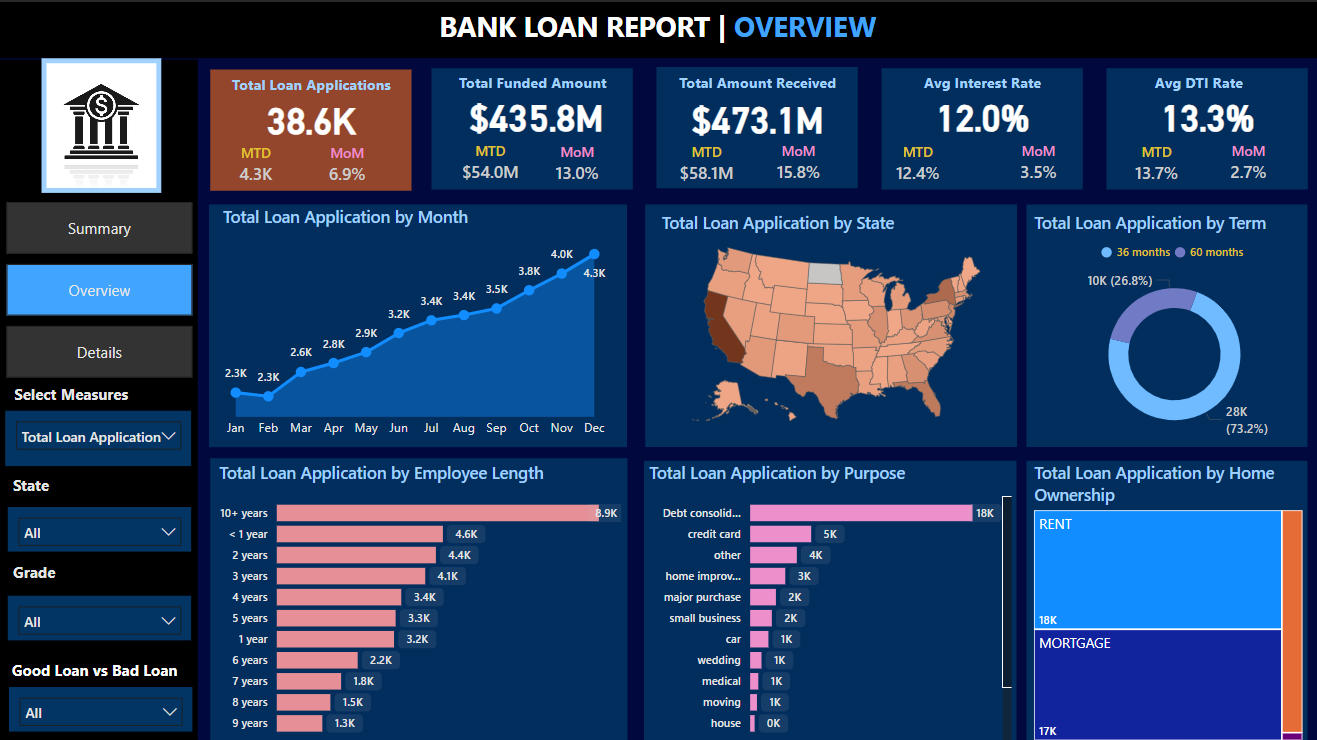

This screenshot's page, from the dashboard's own definition file:
{"tool":"powerbi","page":{"name":"Overview","canvas":[1280,720],"ordinal":1},"visuals":[{"type":"shape","box":[203.4,196.1,405,235],"z":0},{"type":"shape","box":[0,0,1279.5,54.5],"z":1000},{"type":"shape","box":[0,55.4,192.5,664.6],"z":2000},{"type":"textbox","box":[421.3,0,479.4,49.6],"z":3000},{"type":"shape","box":[418.8,64.1,194.9,117.4],"z":3000,"group":"g2"},{"type":"shape","box":[204.6,65.4,194.9,117.4],"z":3000,"group":"g1"},{"type":"shape","box":[854.6,64.1,194.9,117.4],"z":4000,"group":"g3"},{"type":"group","id":"g1","title":"Group 1","box":[204.6,65.4,194.9,117.4],"z":4000},{"type":"card","fields":{"Values":["Key Measures.Total Loan Application"]},"box":[245.8,88.4,113.8,48.4],"z":4000,"group":"g1"},{"type":"group","id":"g2","title":"Group 2","box":[418.8,62.9,194.9,118.6],"z":5000},{"type":"shape","box":[1072.5,64.1,194.9,117.4],"z":5000,"group":"g4"},{"type":"textbox","box":[211.9,65.4,181.6,32.7],"z":5000,"group":"g1"},{"type":"group","id":"g3","title":"Group 4","box":[635.5,62.9,414,118.6],"z":6000},{"type":"shape","box":[636.7,62.9,194.9,117.4],"z":6000,"group":"g5"},{"type":"card","title":"MTD","fields":{"Values":["Key Measures.MTD Loan Applications"]},"box":[214.3,136.8,69,46],"z":6000,"group":"g1"},{"type":"group","id":"g4","title":"Group 5","box":[1071.3,62.9,196.1,118.6],"z":7000},{"type":"card","fields":{"Values":["Key Measures.Total Funded Amount"]},"box":[446.6,85.9,147.7,48.4],"z":7000,"group":"g2"},{"type":"card","title":"MoM","fields":{"Values":["Key Measures.MoM Loan Applications"]},"box":[302.7,136.8,69,46],"z":7000,"group":"g1"},{"type":"textbox","box":[426.1,62.9,181.6,32.7],"z":8000,"group":"g2"},{"type":"textbox","box":[8.5,452.7,72.6,32.7],"z":8000},{"type":"card","title":"MTD","fields":{"Values":["Key Measures.MTD Funded Amount"]},"box":[426.1,134.3,99.3,46],"z":9000,"group":"g2"},{"type":"slicer","fields":{"Values":["financial_loan.address_state"]},"box":[8.5,489,177.9,43.6],"z":9000},{"type":"card","title":"MoM","fields":{"Values":["Key Measures.MoM Funded Amount"]},"box":[525.3,135.5,69,46],"z":10000,"group":"g2"},{"type":"slicer","fields":{"Values":["financial_loan.grade"]},"box":[8.5,575,177.9,43.6],"z":10000},{"type":"card","fields":{"Values":["Key Measures.Total Amount Received"]},"box":[660.9,87.1,147.7,48.4],"z":11000,"group":"g5"},{"type":"slicer","fields":{"Values":["financial_loan.Good vs Bad Loan"]},"box":[9.7,663.6,177.9,43.6],"z":11000},{"type":"textbox","box":[644,62.9,181.6,32.7],"z":12000,"group":"g5"},{"type":"textbox","box":[8.5,537.5,72.6,32.7],"z":12000},{"type":"card","title":"MTD","fields":{"Values":["Key Measures.MTD Amount Received"]},"box":[635.5,135.5,99.3,46],"z":13000,"group":"g5"},{"type":"textbox","box":[7.3,632.1,184,31.5],"z":13000},{"type":"card","title":"MoM","fields":{"Values":["Key Measures.MoM Amount Received"]},"box":[739.6,134.3,69,46],"z":14000,"group":"g5"},{"type":"slicer","fields":{"Values":["Select Measures.Select Measures"]},"box":[6.1,395.8,180.4,53.3],"z":14000},{"type":"card","fields":{"Values":["Key Measures.Avg Int Rate"]},"box":[878.8,85.9,147.7,48.4],"z":15000,"group":"g3"},{"type":"areaChart","fields":{"Y":["Key Measures.Total Loan Application"],"Category":["Date Table.Month"]},"box":[211.8,196.1,382.5,234.8],"z":15000},{"type":"card","title":"MoM","fields":{"Values":["Key Measures.MoM Avg Int Rate"]},"box":[972,134.3,69,46],"z":16000,"group":"g3"},{"type":"textbox","box":[9.7,364.4,136.8,32.7],"z":16000},{"type":"card","title":"MTD","fields":{"Values":["Key Measures.MTD Avg Int"]},"box":[840.1,135.5,99.3,46],"z":17000,"group":"g3"},{"type":"shape","box":[995,196.1,272.4,234.8],"z":17000},{"type":"textbox","box":[861.9,62.9,181.6,32.7],"z":18000,"group":"g3"},{"type":"donutChart","fields":{"Y":["Key Measures.Total Loan Application"],"Category":["financial_loan.term"]},"box":[997.4,202.2,282,228.8],"z":18000},{"type":"card","fields":{"Values":["Key Measures.Avg DTI"]},"box":[1096.7,85.9,147.7,48.4],"z":19000,"group":"g4"},{"type":"shape","box":[204.6,441.8,404.3,278.4],"z":19000},{"type":"card","title":"MoM","fields":{"Values":["Key Measures.MoM Avg DTI"]},"box":[1175.4,134.3,69,46],"z":20000,"group":"g4"},{"type":"barChart","fields":{"Y":["Key Measures.Total Loan Application"],"Category":["financial_loan.emp_length"]},"box":[208.2,444.3,399.5,276],"z":20000},{"type":"card","title":"MTD","fields":{"Values":["Key Measures.MTD Avg DTI"]},"box":[1071.3,135.5,99.3,46],"z":21000,"group":"g4"},{"type":"shape","box":[624.6,444.3,360.7,276],"z":21000},{"type":"textbox","box":[1071.3,62.9,181.6,32.7],"z":22000,"group":"g4"},{"type":"barChart","fields":{"Y":["Key Measures.Total Loan Application"],"Category":["financial_loan.purpose"]},"box":[624.6,444.3,360.7,276],"z":22000},{"type":"shape","box":[625.8,196.1,360,234.8],"z":23000},{"type":"shape","box":[995,444.3,272.4,276],"z":24000},{"type":"group","id":"g5","title":"Group 3","box":[635.5,62.9,196.1,118.6],"z":24002,"group":"g3"},{"type":"treemap","fields":{"Values":["Key Measures.Total Loan Application"],"Group":["financial_loan.home_ownership"]},"box":[997.4,444.3,269.9,276],"z":25000},{"type":"shapeMap","fields":{"Value":["Key Measures.Total Loan Application"],"Category":["financial_loan.address_state"]},"box":[636.7,202.2,348.6,217.9],"z":26000},{"type":"image","box":[41.2,54.5,116.2,130.7],"z":27000},{"type":"pageNavigator","box":[7.3,193.7,180.4,171.9],"z":28000}]}

Visuals, with their boxes in screenshot pixels (x1, y1, x2, y2), scaled from the page's 1280x720 canvas onto the 1317x740 screenshot:
shape: {"left": 209, "top": 202, "right": 626, "bottom": 443}
shape: {"left": 0, "top": 0, "right": 1316, "bottom": 56}
shape: {"left": 0, "top": 57, "right": 198, "bottom": 739}
textbox: {"left": 433, "top": 0, "right": 927, "bottom": 51}
shape: {"left": 431, "top": 66, "right": 631, "bottom": 187}
shape: {"left": 211, "top": 67, "right": 411, "bottom": 188}
shape: {"left": 879, "top": 66, "right": 1080, "bottom": 187}
"Group 1" group: {"left": 211, "top": 67, "right": 411, "bottom": 188}
card - Key Measures.Total Loan Application: {"left": 253, "top": 91, "right": 370, "bottom": 141}
"Group 2" group: {"left": 431, "top": 65, "right": 631, "bottom": 187}
shape: {"left": 1104, "top": 66, "right": 1304, "bottom": 187}
textbox: {"left": 218, "top": 67, "right": 405, "bottom": 101}
"Group 4" group: {"left": 654, "top": 65, "right": 1080, "bottom": 187}
shape: {"left": 655, "top": 65, "right": 856, "bottom": 185}
"MTD" card: {"left": 220, "top": 141, "right": 291, "bottom": 188}
"Group 5" group: {"left": 1102, "top": 65, "right": 1304, "bottom": 187}
card - Key Measures.Total Funded Amount: {"left": 460, "top": 88, "right": 611, "bottom": 138}
"MoM" card: {"left": 311, "top": 141, "right": 382, "bottom": 188}
textbox: {"left": 438, "top": 65, "right": 625, "bottom": 98}
textbox: {"left": 9, "top": 465, "right": 83, "bottom": 499}
"MTD" card: {"left": 438, "top": 138, "right": 541, "bottom": 185}
slicer - financial_loan.address_state: {"left": 9, "top": 503, "right": 192, "bottom": 547}
"MoM" card: {"left": 540, "top": 139, "right": 611, "bottom": 187}
slicer - financial_loan.grade: {"left": 9, "top": 591, "right": 192, "bottom": 636}
card - Key Measures.Total Amount Received: {"left": 680, "top": 90, "right": 832, "bottom": 139}
slicer - financial_loan.Good vs Bad Loan: {"left": 10, "top": 682, "right": 193, "bottom": 727}
textbox: {"left": 663, "top": 65, "right": 849, "bottom": 98}
textbox: {"left": 9, "top": 552, "right": 83, "bottom": 586}
"MTD" card: {"left": 654, "top": 139, "right": 756, "bottom": 187}
textbox: {"left": 8, "top": 650, "right": 197, "bottom": 682}
"MoM" card: {"left": 761, "top": 138, "right": 832, "bottom": 185}
slicer - Select Measures.Select Measures: {"left": 6, "top": 407, "right": 192, "bottom": 462}
card - Key Measures.Avg Int Rate: {"left": 904, "top": 88, "right": 1056, "bottom": 138}
areaChart - Key Measures.Total Loan Application x Date Table.Month: {"left": 218, "top": 202, "right": 611, "bottom": 443}
"MoM" card: {"left": 1000, "top": 138, "right": 1071, "bottom": 185}
textbox: {"left": 10, "top": 375, "right": 151, "bottom": 408}
"MTD" card: {"left": 864, "top": 139, "right": 967, "bottom": 187}
shape: {"left": 1024, "top": 202, "right": 1304, "bottom": 443}
textbox: {"left": 887, "top": 65, "right": 1074, "bottom": 98}
donutChart - Key Measures.Total Loan Application x financial_loan.term: {"left": 1026, "top": 208, "right": 1316, "bottom": 443}
card - Key Measures.Avg DTI: {"left": 1128, "top": 88, "right": 1280, "bottom": 138}
shape: {"left": 211, "top": 454, "right": 627, "bottom": 739}
"MoM" card: {"left": 1209, "top": 138, "right": 1280, "bottom": 185}
barChart - Key Measures.Total Loan Application x financial_loan.emp_length: {"left": 214, "top": 457, "right": 625, "bottom": 739}
"MTD" card: {"left": 1102, "top": 139, "right": 1204, "bottom": 187}
shape: {"left": 643, "top": 457, "right": 1014, "bottom": 739}
textbox: {"left": 1102, "top": 65, "right": 1289, "bottom": 98}
barChart - Key Measures.Total Loan Application x financial_loan.purpose: {"left": 643, "top": 457, "right": 1014, "bottom": 739}
shape: {"left": 644, "top": 202, "right": 1014, "bottom": 443}
shape: {"left": 1024, "top": 457, "right": 1304, "bottom": 739}
"Group 3" group: {"left": 654, "top": 65, "right": 856, "bottom": 187}
treemap - Key Measures.Total Loan Application x financial_loan.home_ownership: {"left": 1026, "top": 457, "right": 1304, "bottom": 739}
shapeMap - Key Measures.Total Loan Application x financial_loan.address_state: {"left": 655, "top": 208, "right": 1014, "bottom": 432}
image: {"left": 42, "top": 56, "right": 162, "bottom": 190}
pageNavigator: {"left": 8, "top": 199, "right": 193, "bottom": 376}
